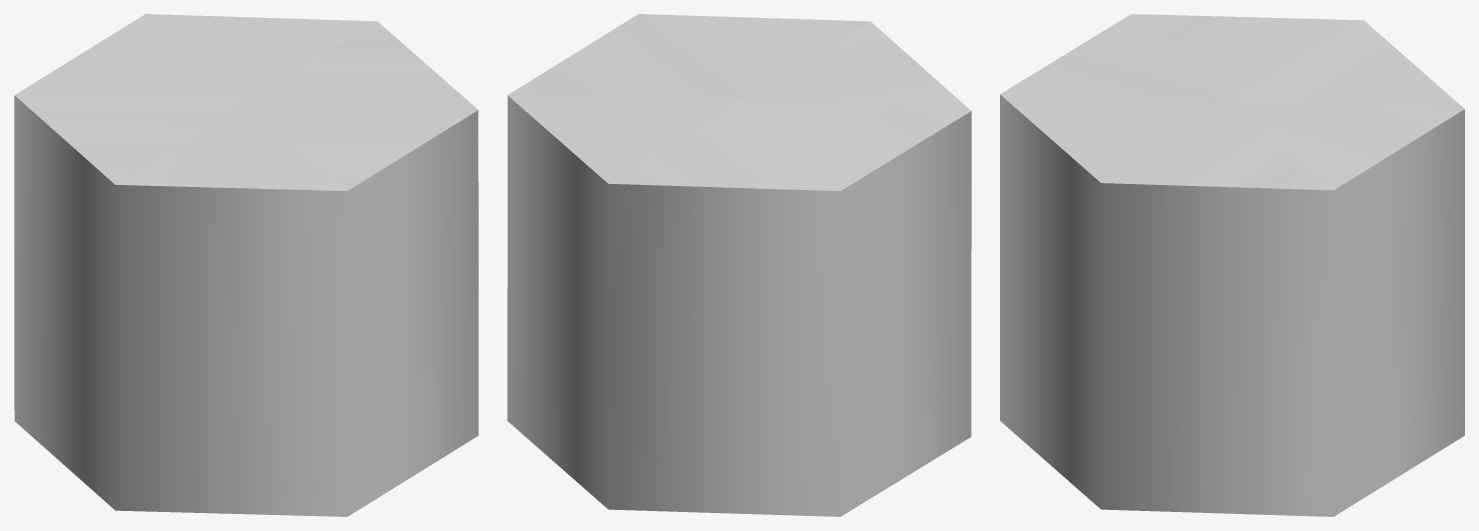
Rendered from SM_消解罐_盖子02.FBX.
3 views of the same model, side by side, from view 1: azimuth 30°, elevation 25°; view 2: azimuth 150°, elevation 25°; view 3: azimuth 270°, elevation 25° (orthographic).
Parts seen in each view (by area): view 1: SM_消解罐_盖子02; view 2: SM_消解罐_盖子02; view 3: SM_消解罐_盖子02.
Part boxes in pixels (box(x1,y1,x2,y2)): SM_消解罐_盖子02: box(14, 14, 478, 516); SM_消解罐_盖子02: box(507, 14, 971, 516); SM_消解罐_盖子02: box(1000, 14, 1464, 516).
Bounding box in the file's own units: 36.42 × 31.48 × 40.3.
